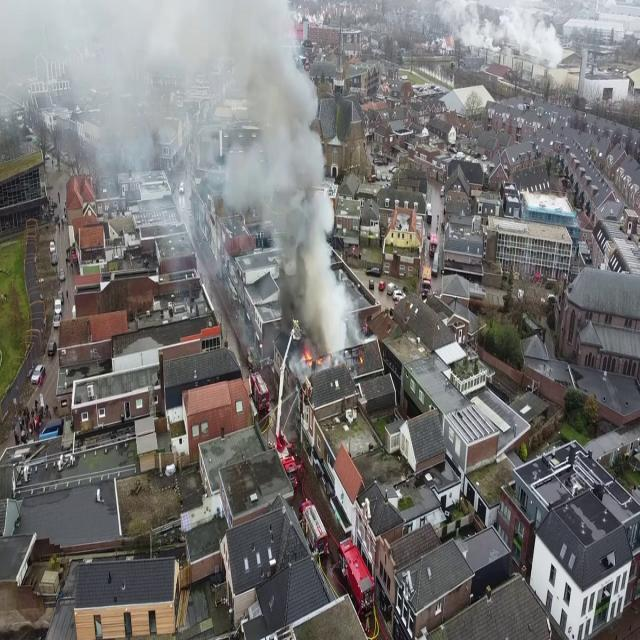Smoke: (0, 0, 286, 220), (248, 5, 362, 364)
